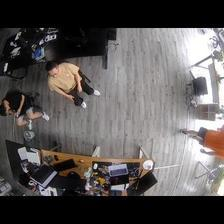normal: (44, 61, 102, 108), (179, 122, 224, 163)
